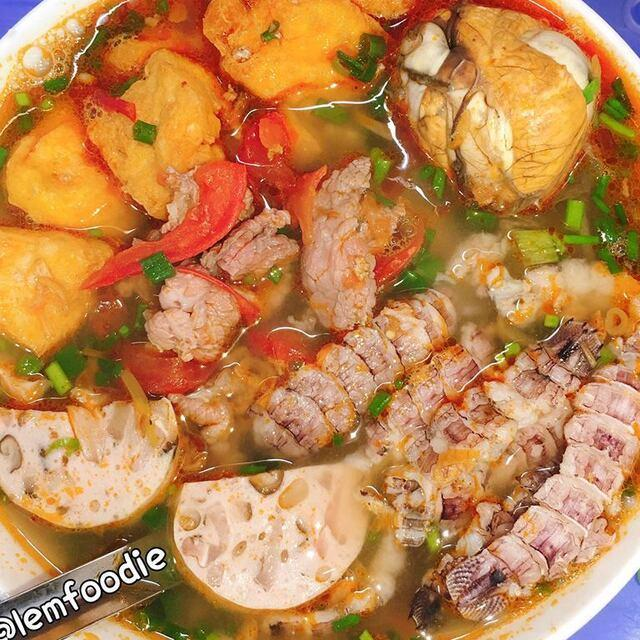dau hu: (76, 43, 237, 226), (0, 90, 147, 254), (197, 0, 397, 104), (0, 215, 130, 365)
thit heo: (136, 157, 314, 376), (287, 149, 414, 340)
tom tit: (440, 315, 640, 630), (368, 309, 615, 558), (242, 276, 485, 469), (347, 314, 520, 479)
trung: (377, 0, 607, 227)
